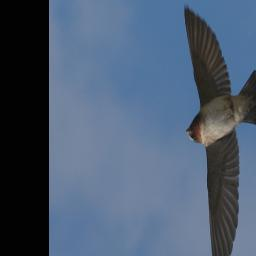Swallow: (183, 6, 256, 256)
